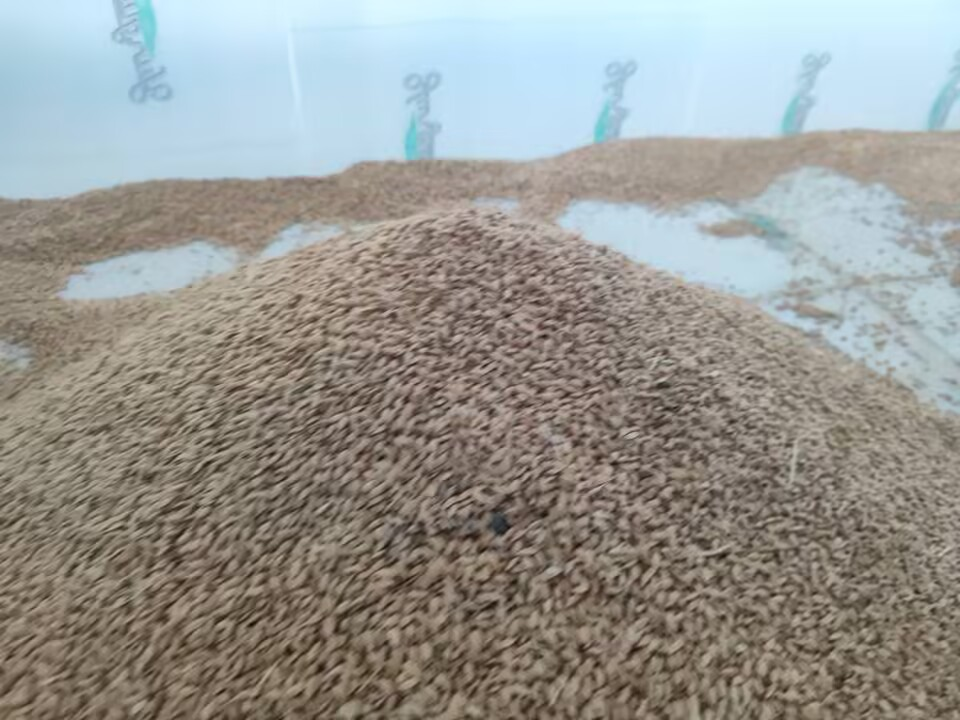Grain: (85, 199, 895, 706)
